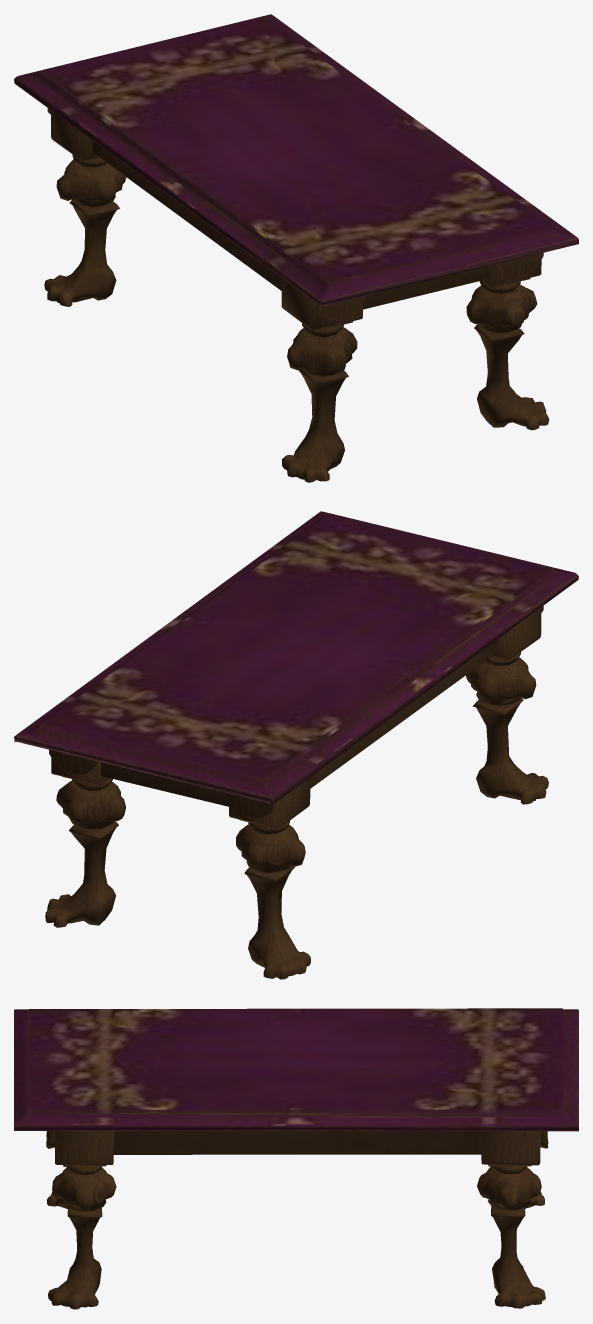
The model's file is banquet-table-v2.glb.
3 views of the same model, one above another, from view 1: azimuth 30°, elevation 25°; view 2: azimuth 150°, elevation 25°; view 3: azimuth 270°, elevation 25° (orthographic). The views are drawn at different scales.
Parts seen in each view (by area): view 1: banquet-table-v2; view 2: banquet-table-v2; view 3: banquet-table-v2.
Part boxes in pixels (x1,y1,x2,y2): banquet-table-v2: [14, 14, 578, 482]; banquet-table-v2: [14, 511, 578, 979]; banquet-table-v2: [14, 1008, 578, 1309].
Bounding box in the file's own units: 0.4893 × 0.3832 × 1.
Materials: 1 (1 with a texture image).
